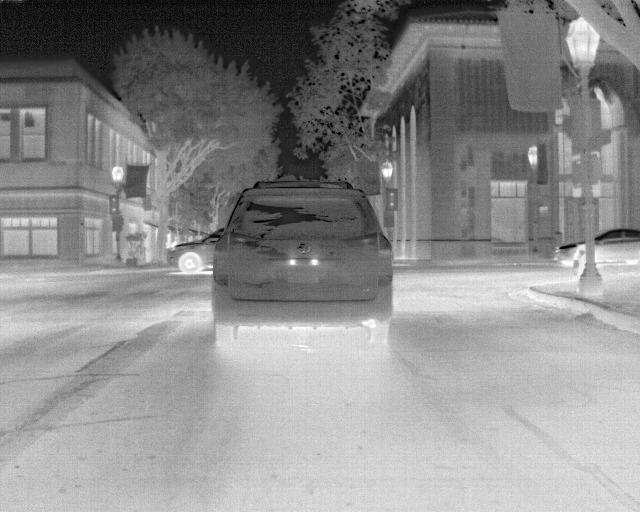bicycle: (211, 178, 392, 345), (165, 229, 226, 273), (596, 228, 638, 265), (553, 241, 585, 265)
